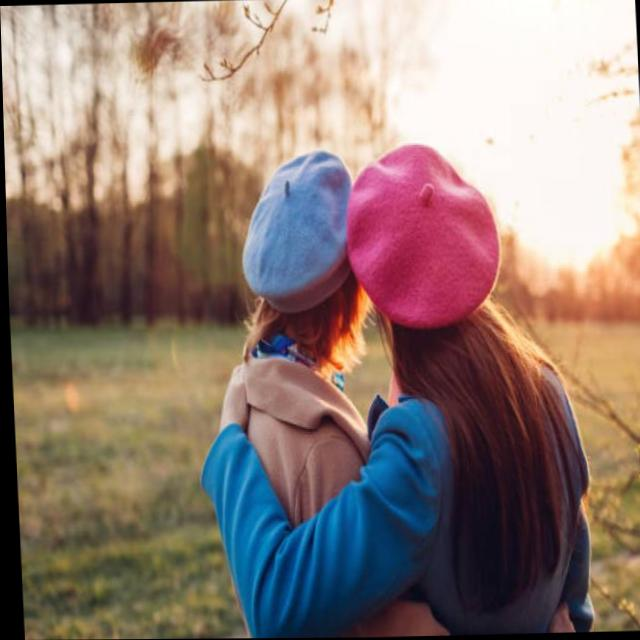no helmet: (334, 108, 514, 370), (219, 121, 378, 380)
